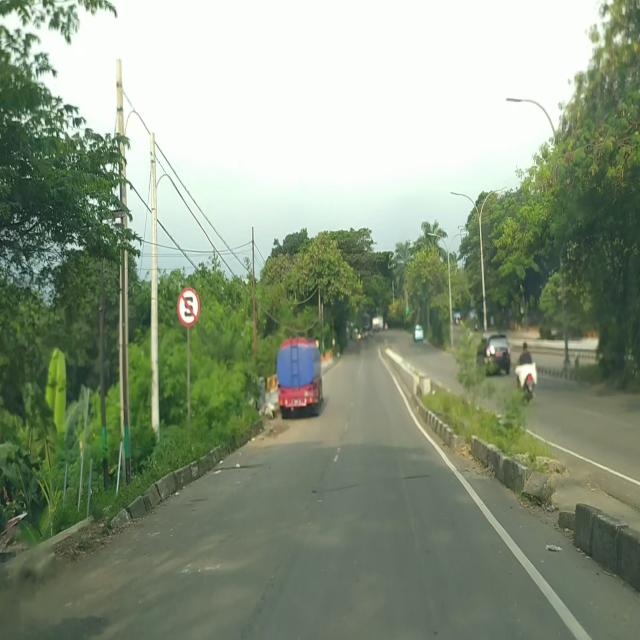Sewer Cover: (314, 471, 444, 500)
